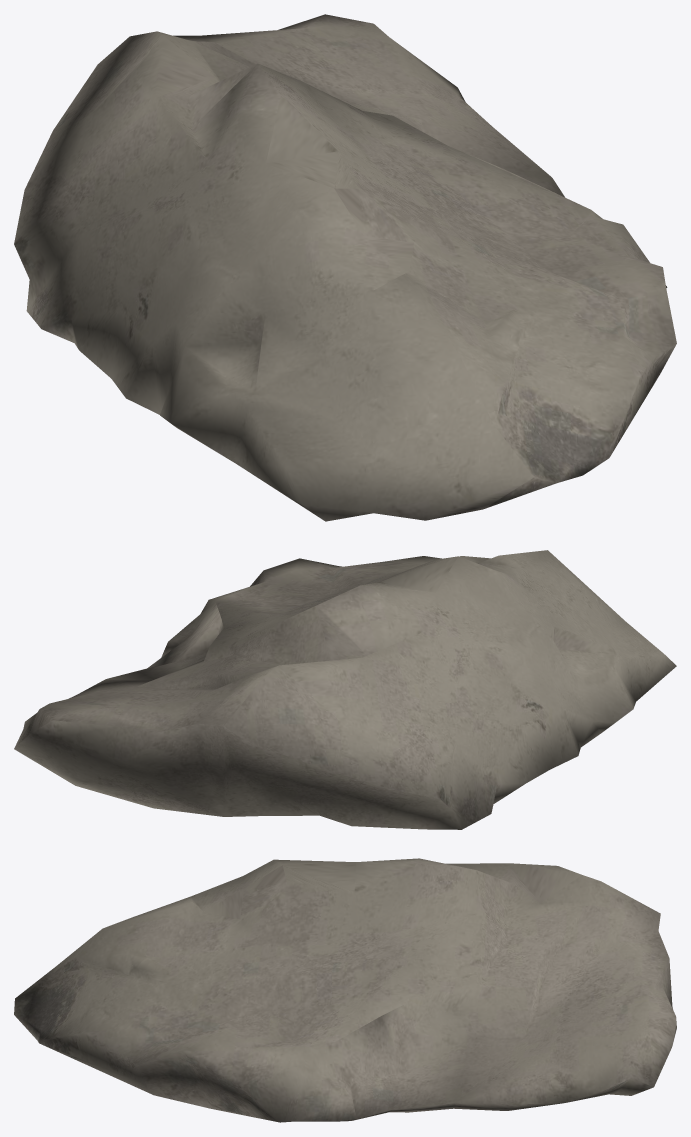
File: rock_moon_04_low.glb
3 renders of one model, top to bottom at view 1: azimuth 30°, elevation 25°; view 2: azimuth 150°, elevation 25°; view 3: azimuth 270°, elevation 25°, orthographic. The views are drawn at different scales.
Parts seen in each view (by area): view 1: rock_moon_04_low; view 2: rock_moon_04_low; view 3: rock_moon_04_low.
Boxes of the visible parts, bbox=[...] form: rock_moon_04_low: bbox=[14, 14, 676, 521]; rock_moon_04_low: bbox=[14, 550, 676, 829]; rock_moon_04_low: bbox=[14, 858, 676, 1122].
Bounding box in the file's own units: 0.1201 × 0.0528 × 0.1729.
Materials: 1 (1 with a texture image).
